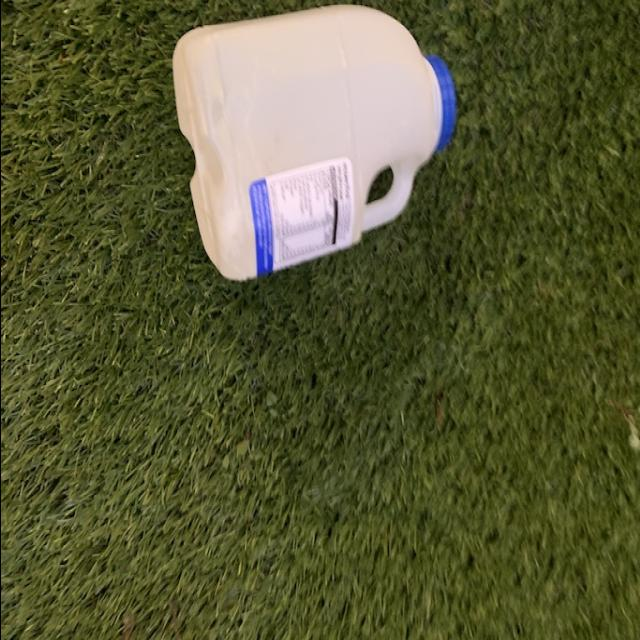HDPEM: (168, 0, 454, 285)
